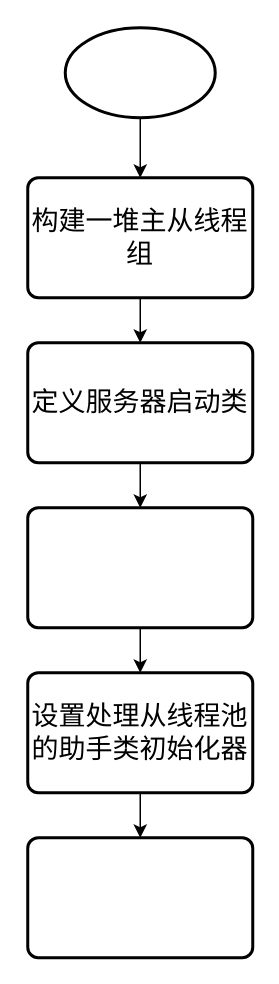
This 279x984 diagram has some shape labels left out. The box of each missing label's shape, as (x1, y1, x2, y2) in pixels:
为服务器设置channel: (26, 506, 254, 628)
启动监听和关闭服务器: (26, 836, 254, 958)
